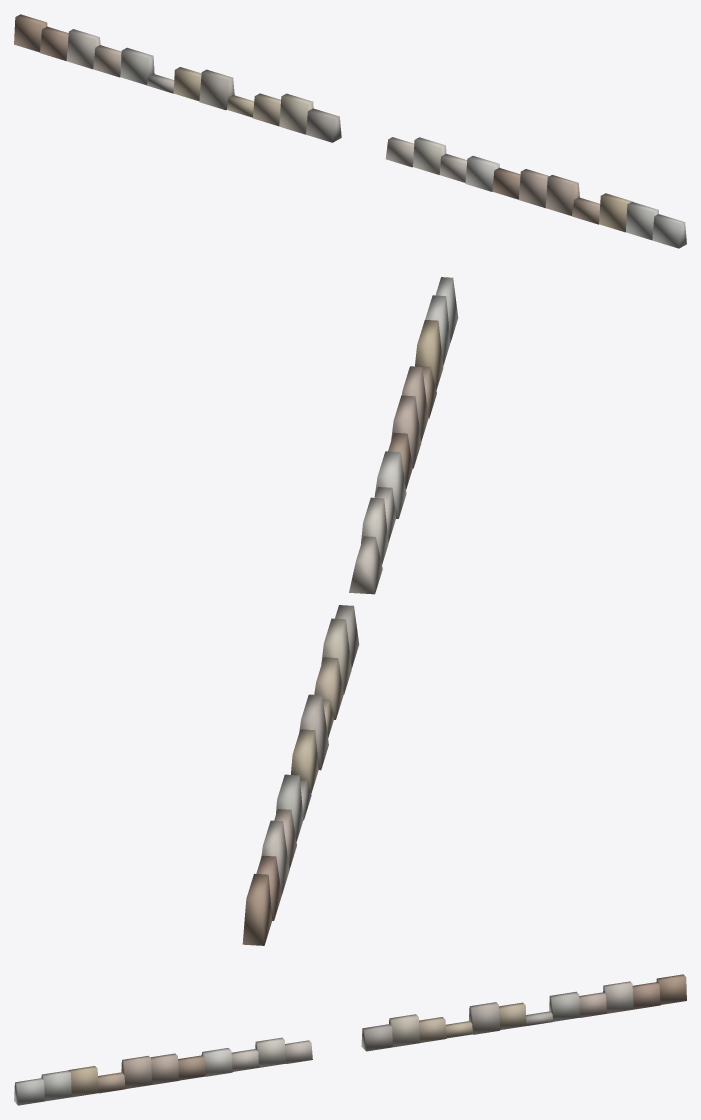
File: farm_-45_-43_collision.glb
The picture shows the model from 3 angles, top to bottom: view 1: azimuth 30°, elevation 25°; view 2: azimuth 150°, elevation 25°; view 3: azimuth 270°, elevation 25°; orthographic projection. The views are drawn at different scales.
Visible parts, largest first — view 1: geometry_0; view 2: geometry_0; view 3: geometry_0.
Boxes of the visible parts, x1,y1,x2,y2 form: geometry_0: [14, 14, 686, 248]; geometry_0: [242, 277, 458, 945]; geometry_0: [14, 974, 686, 1105].
Size of the model in its own units: 15.29 by 2.08 by 36.14.
